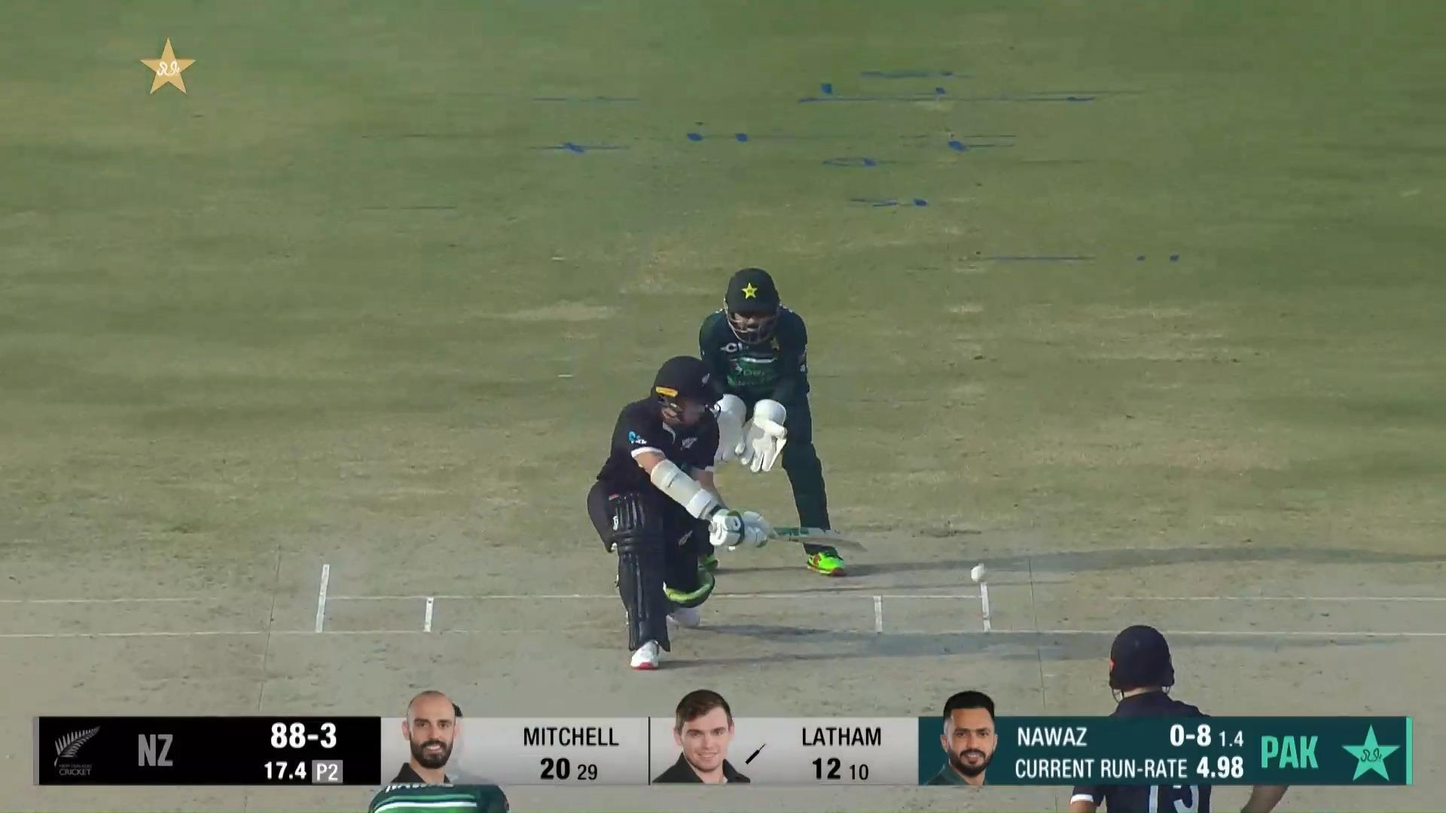BM 1: (586, 355, 868, 671)
BO: (368, 701, 511, 813)
